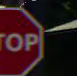Stop: (0, 6, 49, 75)
